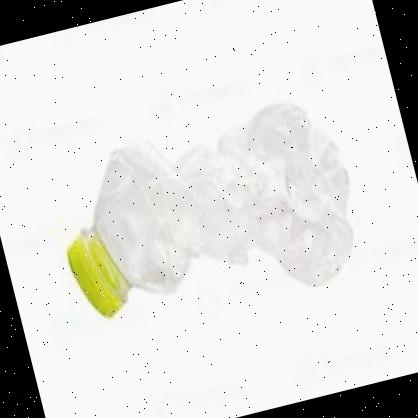bottle: (44, 80, 372, 350)
cap: (47, 216, 129, 331)
